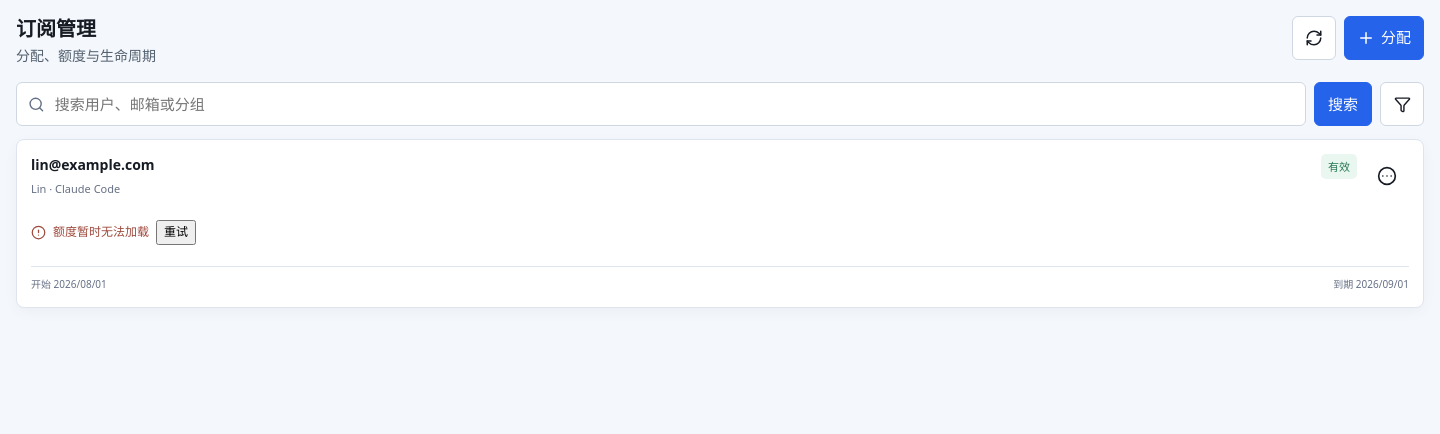
Test case: MobileAdminSubscriptionsView › rejects malformed progress with wrong id type and retries safely
The image size is (1440, 434).
Expected: the element with test id "subscription-progress-error-3" shows "额度暂时无法加载", x1=53 y1=223 x2=149 y2=240
Click the button with test id "retry-subscription-progress-3" at (176, 232), box x1=156 y1=220 x2=196 y2=245
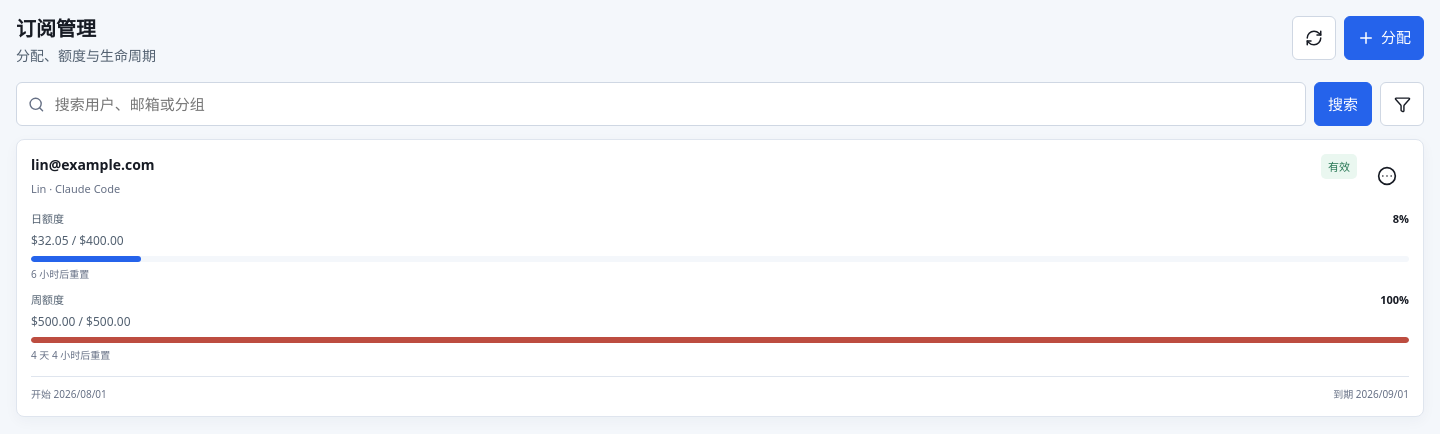
Expected: the element with test id "subscription-quota-daily-3" shows "$32.05", x1=31 y1=232 x2=124 y2=249
